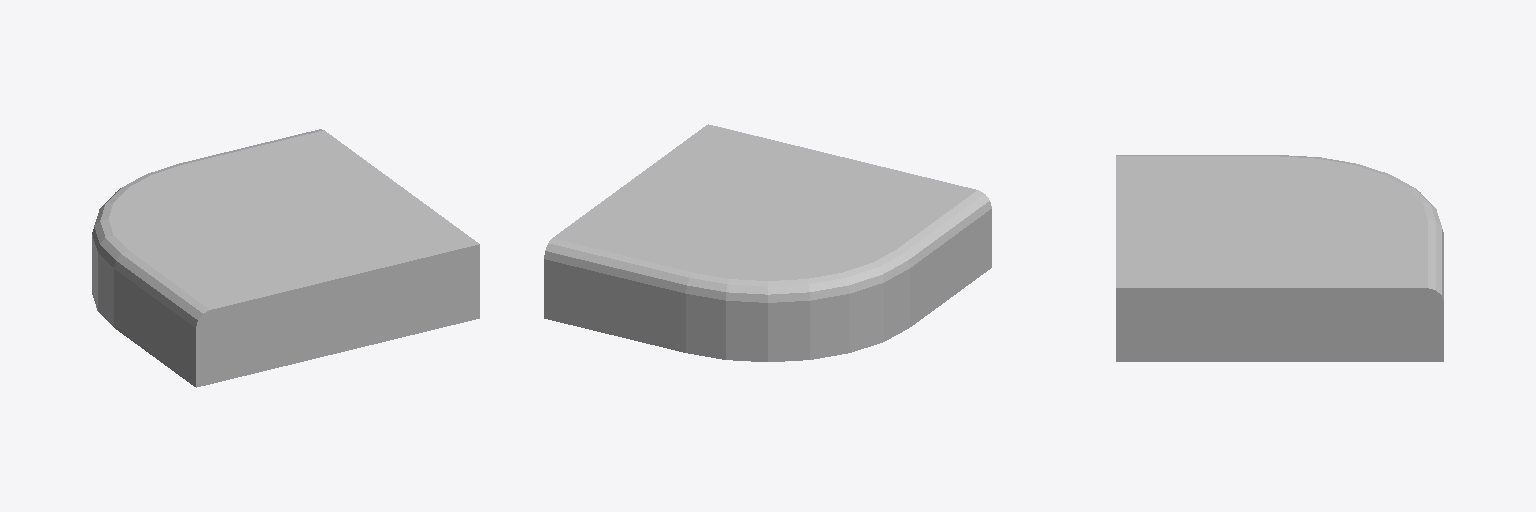
Rendered from floor_grass_sliced_A.obj.
The picture shows the model from 3 angles: view 1: azimuth 30°, elevation 25°; view 2: azimuth 150°, elevation 25°; view 3: azimuth 270°, elevation 25°; orthographic projection.
Parts seen in each view (by area): view 1: floor_grass_sliced_A; view 2: floor_grass_sliced_A; view 3: floor_grass_sliced_A.
Boxes of the visible parts, <box> form: floor_grass_sliced_A: <box>92,129,479,387</box>; floor_grass_sliced_A: <box>544,124,991,361</box>; floor_grass_sliced_A: <box>1116,155,1443,361</box>.
Bounding box in the file's own units: 2 × 0.5 × 2.